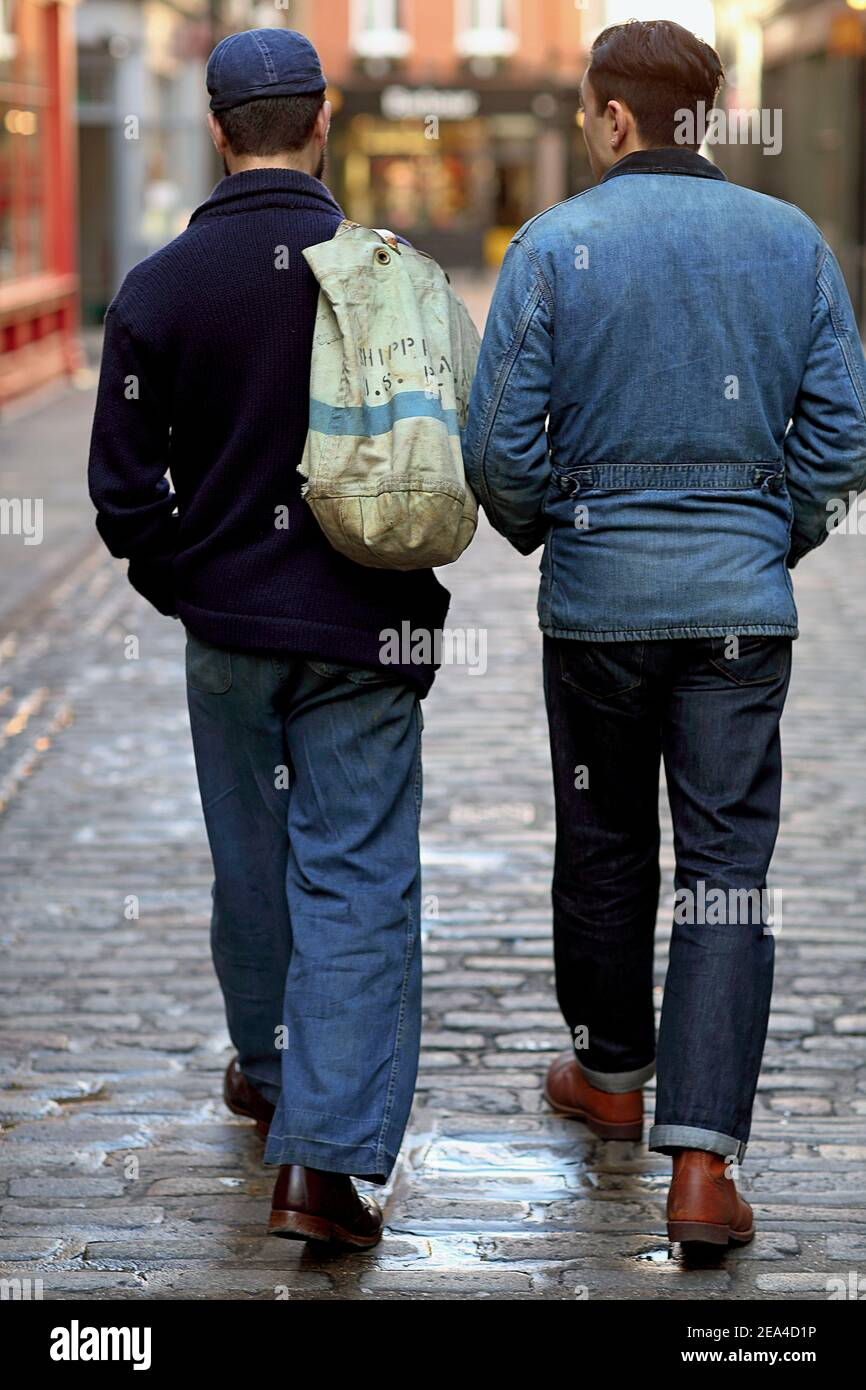person: (87, 15, 488, 1257), (464, 9, 857, 1270)
